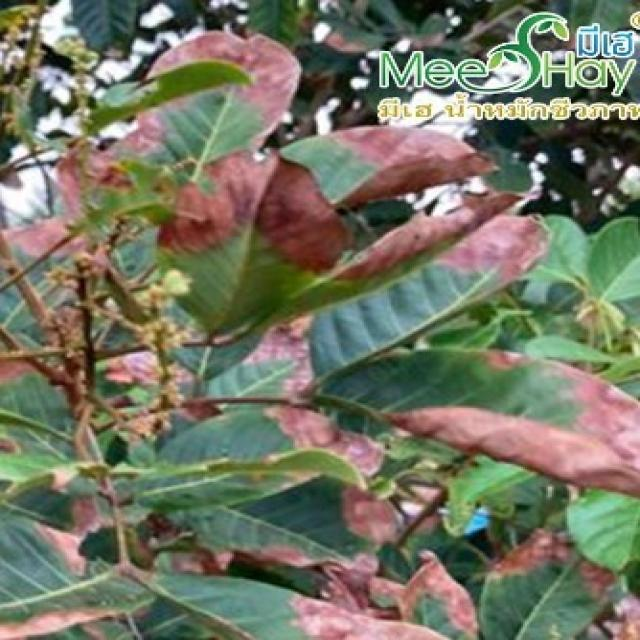Leaf Blight: (133, 0, 529, 292), (413, 340, 640, 597), (268, 405, 449, 640)
